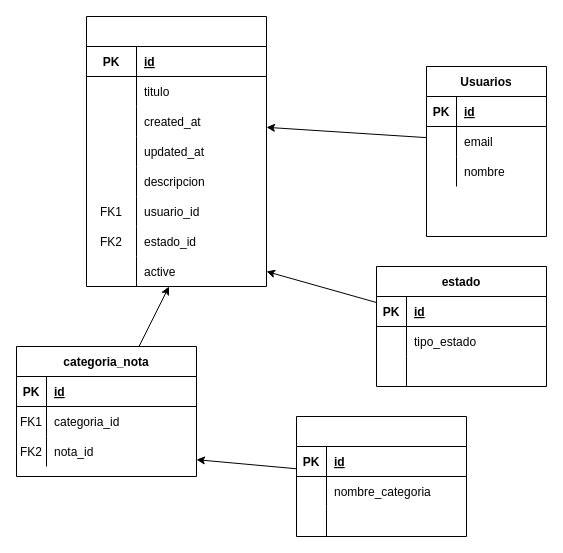
The diagram is 563 pixels wide and 553 high, and some of its shapes have lost their labels. Here are the shapes that lost their labels. From the top down, the box of each, then its label:
(86, 16, 266, 286): Notas
(296, 416, 466, 536): Categorias
